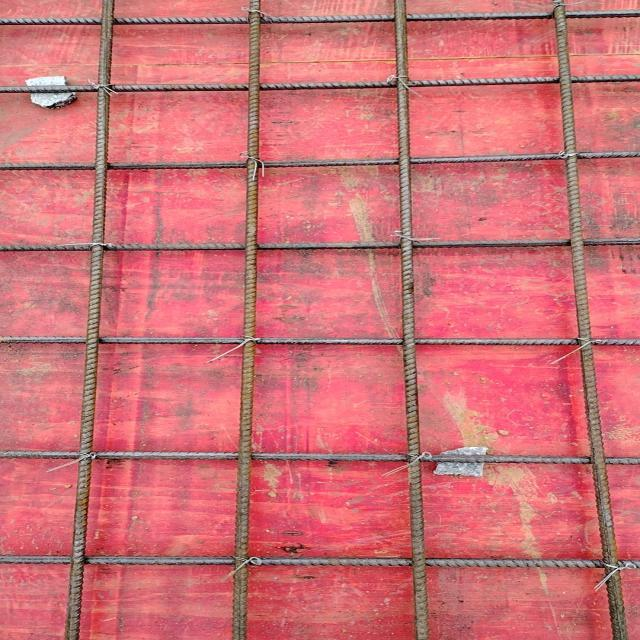ribbed bar: (550, 0, 629, 639), (62, 0, 114, 639), (393, 0, 430, 639), (229, 0, 264, 639), (0, 149, 639, 173), (0, 73, 639, 94), (0, 236, 639, 254), (0, 9, 639, 25), (0, 449, 639, 465), (0, 554, 639, 568), (0, 335, 639, 347)
